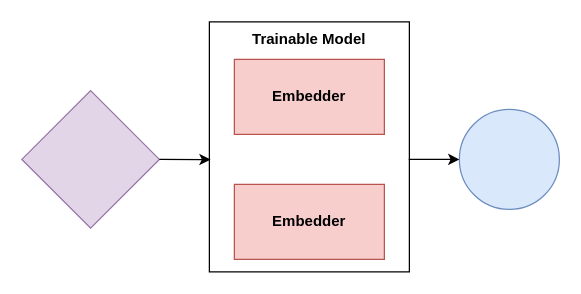
Some shapes in this 581 by 294 pixel diagram are drawn without their labels. Here are the shapes that lost their labels. From the top down, the centre of each, then its label:
the point at 90,158: Pair Of Time Series
the point at 508,158: Cosine Similarity
